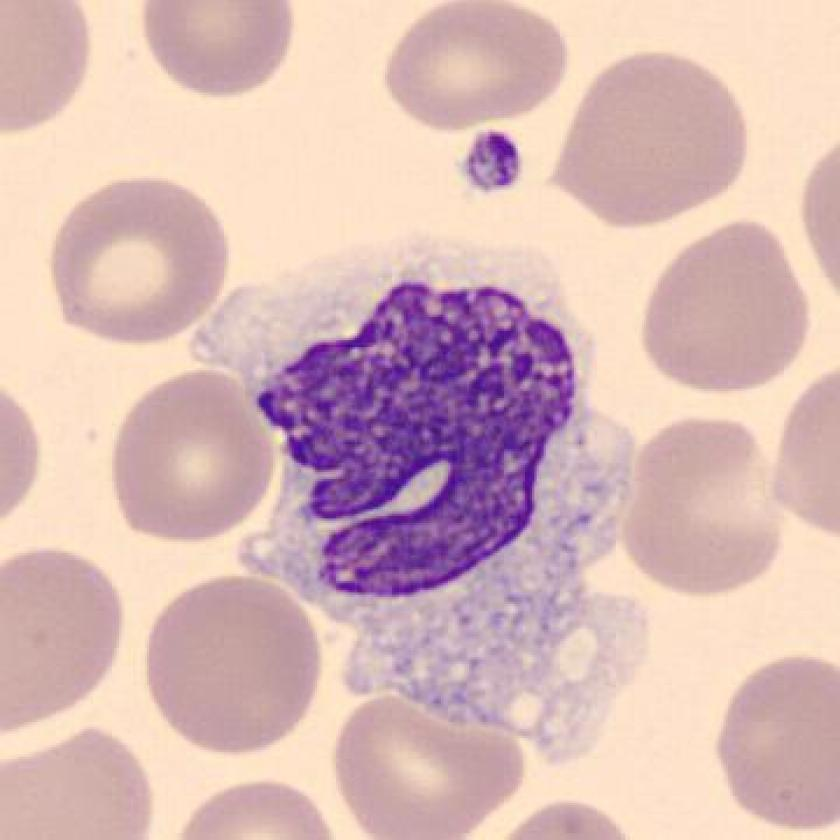monocyte: (176, 223, 680, 788)
